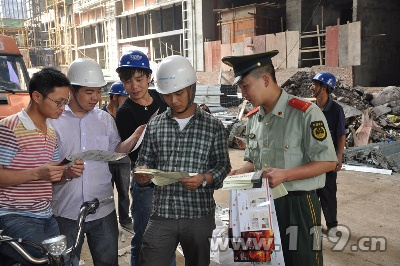blue: (116, 50, 152, 101), (310, 71, 337, 101), (107, 81, 128, 107)
none: (229, 50, 280, 107), (28, 67, 70, 121)
white: (156, 55, 198, 114), (65, 58, 107, 110)
